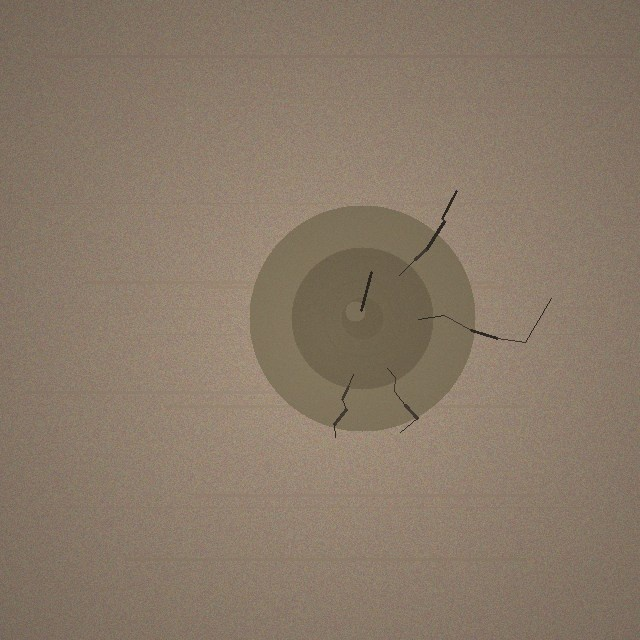crack: (249, 205, 475, 431)
